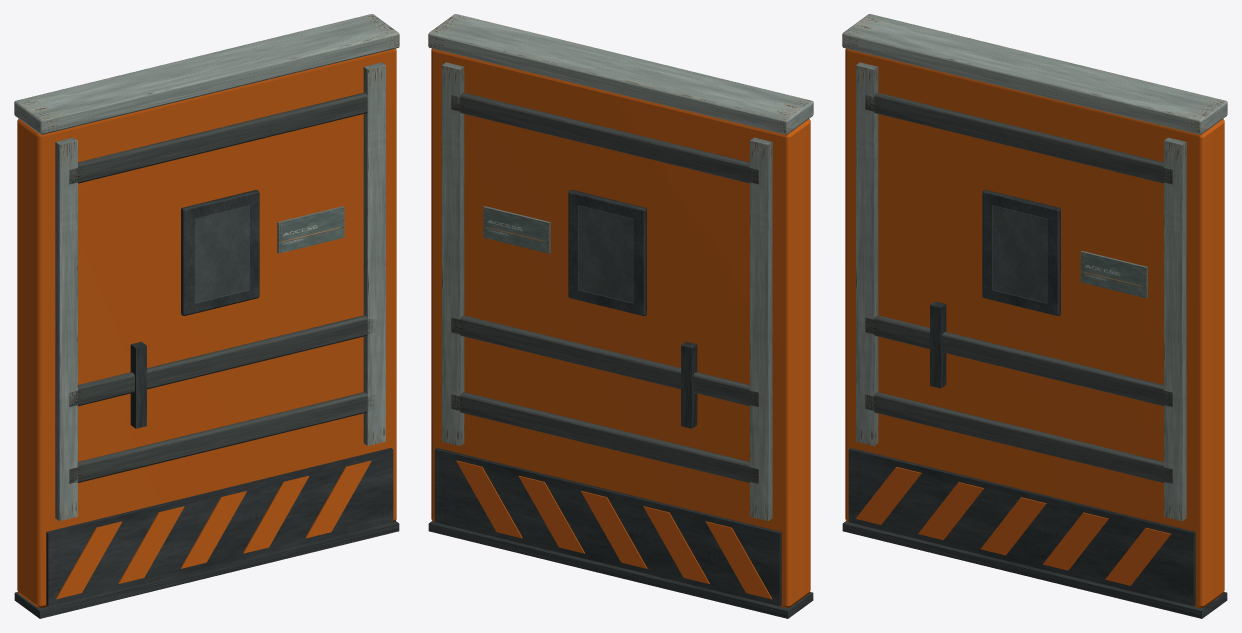
Rendered from bulkhead_door.glb.
3 views of the same model, side by side, from view 1: azimuth 30°, elevation 25°; view 2: azimuth 150°, elevation 25°; view 3: azimuth 330°, elevation 25° (orthographic).
Parts seen in each view (by area): view 1: Bulkhead; view 2: Bulkhead; view 3: Bulkhead.
Part boxes in pixels (box(x1,y1,x2,y2)): Bulkhead: box(14, 14, 399, 618); Bulkhead: box(428, 14, 813, 618); Bulkhead: box(842, 14, 1227, 618).
Size of the model in its own units: 1.96 by 2.6 by 0.32.
Materials: 3 (1 with a texture image).
